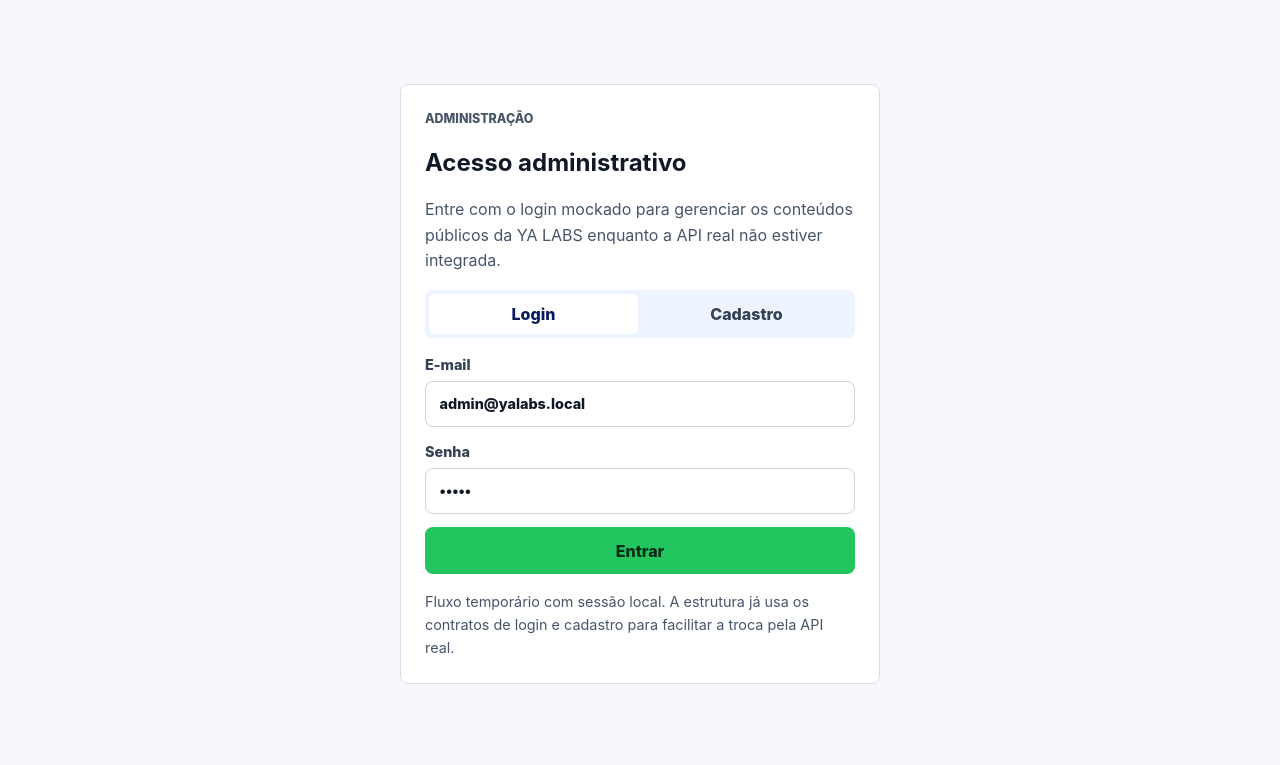
it: App › permite cadastrar e entrar com autenticação mockada
Click the button "Cadastro". click: (746, 314)
box: x1=642 y1=294 x2=851 y2=334
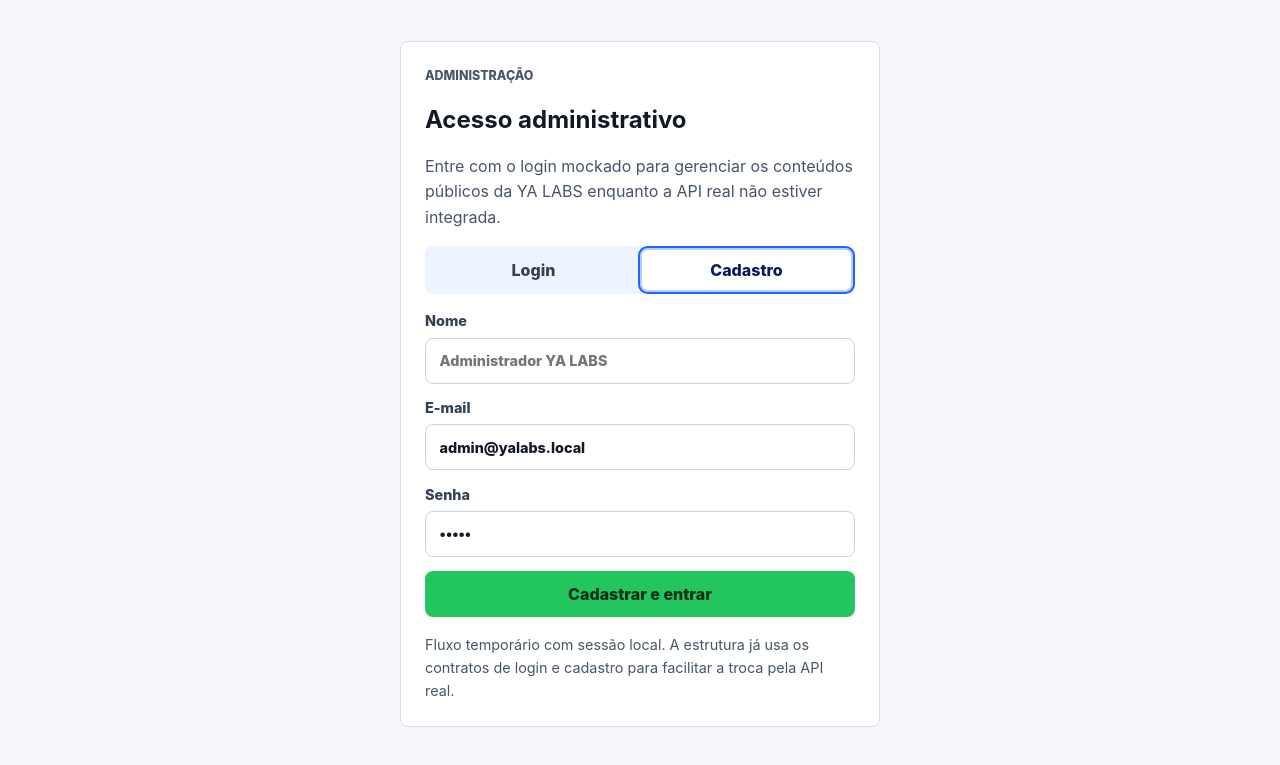
Type "Administrador Teste" into the field labelled "Nome". click: (640, 361)
box: x1=425 y1=338 x2=855 y2=384
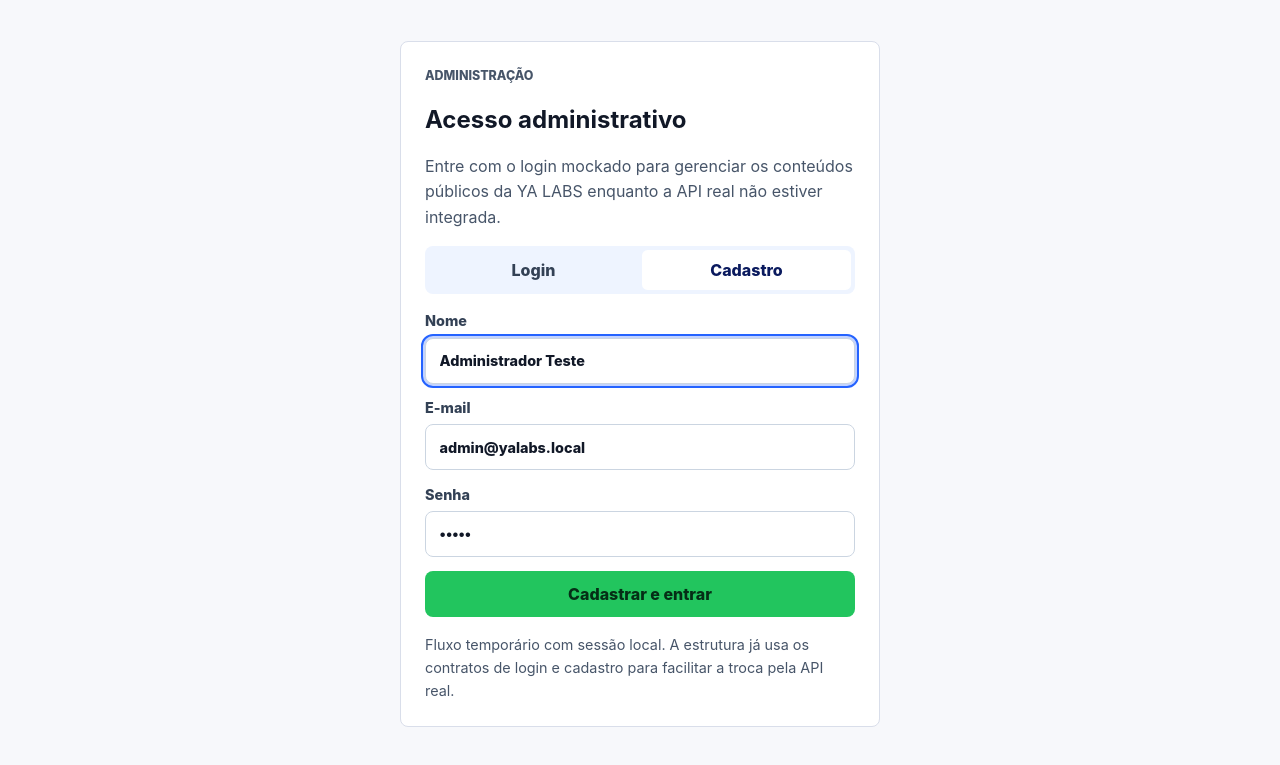
Click the button "Cadastrar e entrar". click: (640, 594)
box: x1=425 y1=571 x2=855 y2=617
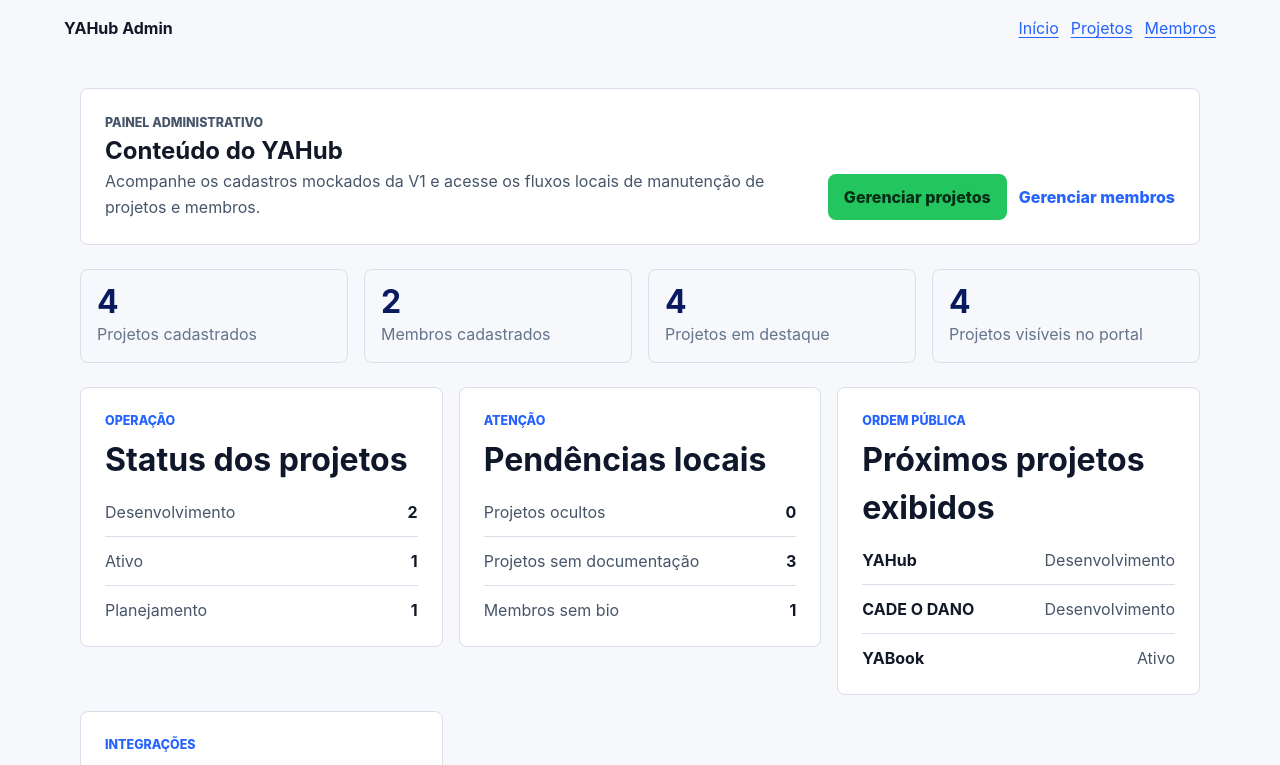
Now the heading "Conteúdo do YAHub" is shown, box x1=105 y1=136 x2=343 y2=165
